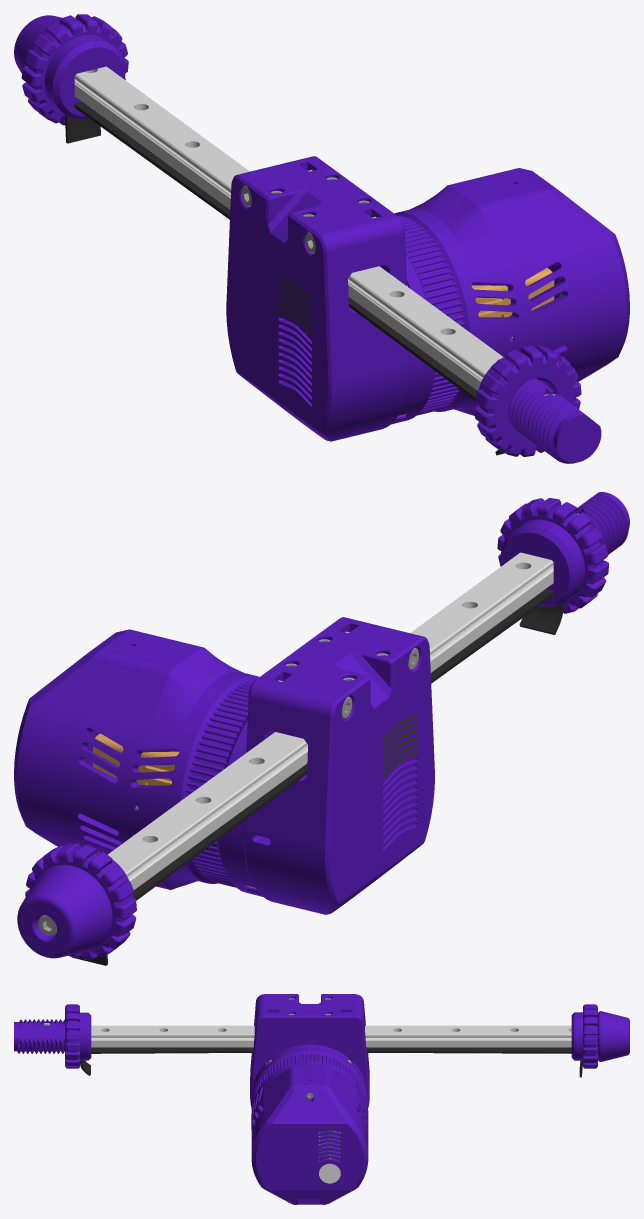
File: ossm-alt.glb
3 renders of one model, top to bottom at view 1: azimuth 30°, elevation 25°; view 2: azimuth 150°, elevation 25°; view 3: azimuth 270°, elevation 25°, orthographic. The views are drawn at different scales.
Parts seen in each view (by area): view 1: Mechanic Mount Top, main-motor-clamp, rail-mgn15h-400, motor-cover-spacer, belt-mechanics-rear, top-cover, front-belt-tensioner, front-thread, belt, back-belt-tensioner, rear-thread, rear-nut-clamp (+1 smaller); view 2: Mechanic Mount Top, main-motor-clamp, rail-mgn15h-400, motor-cover-spacer, belt-mechanics-rear, top-cover, rear-tensioner-cover, belt, front-thread, back-belt-tensioner, front-belt-tensioner, front-clamp; view 3: top-cover, rail-mgn15h-400, belt-mechanics-rear, main-motor-clamp, belt, motor-cover-spacer, front-thread, rear-tensioner-cover, Mechanic Mount Top, back-belt-tensioner, front-belt-tensioner, rear-thread (+1 smaller).
Boxes of the visible parts, x1=… form: Mechanic Mount Top: x1=226, y1=165, x2=372, y2=441; main-motor-clamp: x1=391, y1=182, x2=526, y2=424; rail-mgn15h-400: x1=74, y1=66, x2=503, y2=390; motor-cover-spacer: x1=460, y1=168, x2=583, y2=368; belt-mechanics-rear: x1=278, y1=156, x2=409, y2=437; top-cover: x1=518, y1=168, x2=629, y2=381; front-belt-tensioner: x1=474, y1=345, x2=581, y2=456; front-thread: x1=477, y1=356, x2=601, y2=463; belt: x1=65, y1=101, x2=504, y2=455; back-belt-tensioner: x1=21, y1=14, x2=128, y2=125; rear-thread: x1=47, y1=36, x2=125, y2=119; rear-nut-clamp: x1=44, y1=35, x2=105, y2=107; Mechanic Mount Top: x1=282, y1=626, x2=434, y2=914; main-motor-clamp: x1=122, y1=644, x2=262, y2=896; rail-mgn15h-400: x1=107, y1=552, x2=553, y2=889; motor-cover-spacer: x1=62, y1=630, x2=191, y2=886; belt-mechanics-rear: x1=243, y1=617, x2=380, y2=910; top-cover: x1=14, y1=629, x2=130, y2=847; rear-tensioner-cover: x1=17, y1=865, x2=112, y2=958; belt: x1=71, y1=589, x2=563, y2=965; front-thread: x1=502, y1=492, x2=629, y2=607; back-belt-tensioner: x1=25, y1=843, x2=136, y2=959; front-belt-tensioner: x1=497, y1=498, x2=608, y2=613; front-clamp: x1=500, y1=519, x2=584, y2=595; top-cover: x1=251, y1=1085, x2=368, y2=1204; rail-mgn15h-400: x1=91, y1=1025, x2=571, y2=1047; belt-mechanics-rear: x1=250, y1=1005, x2=369, y2=1108; main-motor-clamp: x1=251, y1=1044, x2=368, y2=1129; belt: x1=80, y1=1047, x2=582, y2=1077; motor-cover-spacer: x1=251, y1=1069, x2=368, y2=1141; front-thread: x1=14, y1=1012, x2=91, y2=1060; rear-tensioner-cover: x1=598, y1=1011, x2=629, y2=1061; Mechanic Mount Top: x1=250, y1=994, x2=369, y2=1086; back-belt-tensioner: x1=583, y1=1004, x2=597, y2=1068; front-belt-tensioner: x1=65, y1=1004, x2=79, y2=1068; rear-thread: x1=571, y1=1017, x2=581, y2=1060.
Size of the model in its own units: 0.1406 by 0.1069 by 0.4215.
